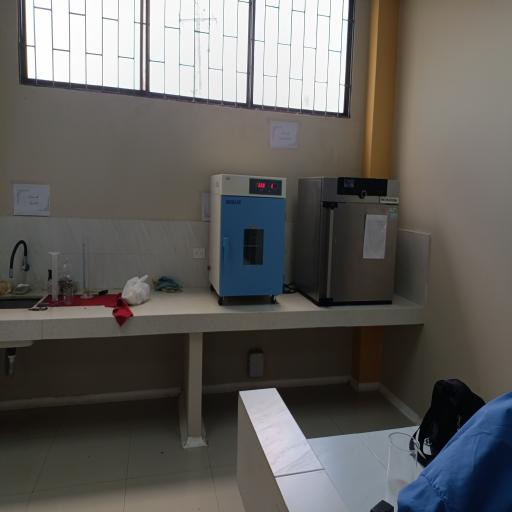Horno_Secado_Biobase: (204, 163, 288, 309)
Incubadora: (295, 169, 405, 315)
